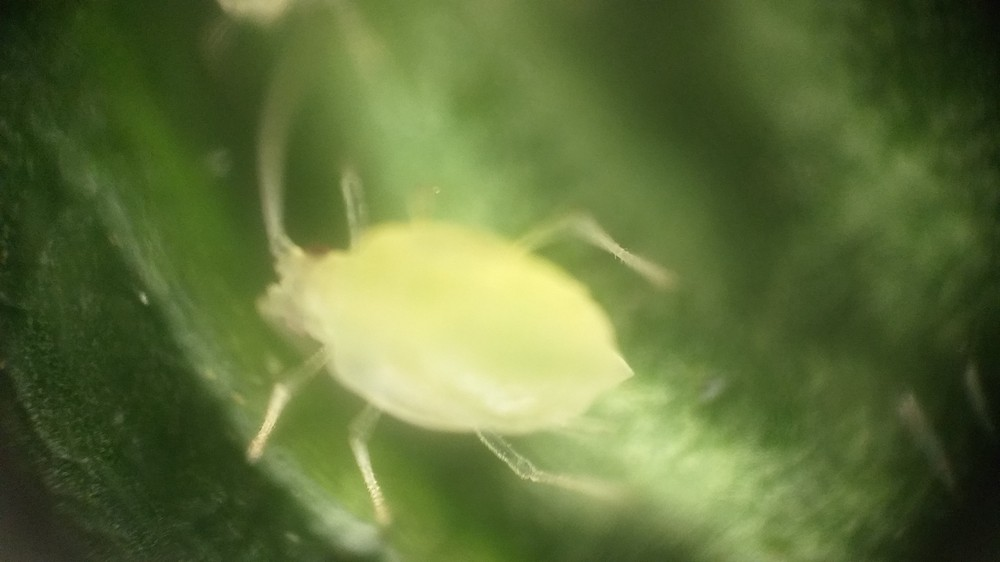Pulgon: (173, 101, 726, 543)
